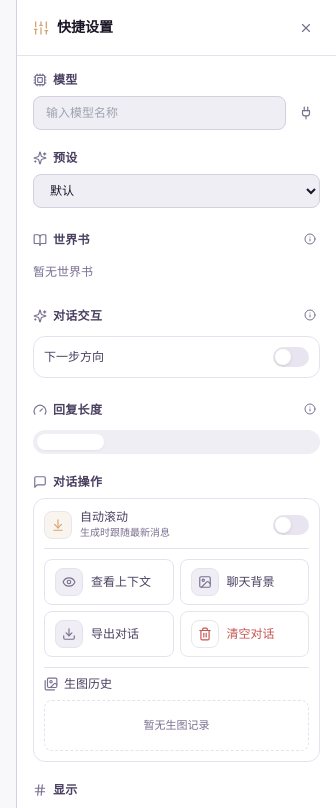
QuickSettingsPanel › 世界书改为动态分配且不再提供固定比例
Check: the text "按相关性自动分配上下文空间" is not shown
Click the 1st button named "查看说明" at (310, 239), box [300,229,320,249]
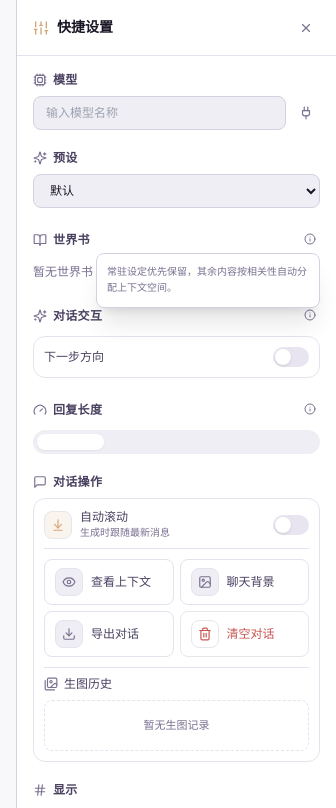
Check: the text "常驻设定优先保留，其余内容按相关性自动分配上下文空间。" is shown, box [107,264,309,296]
